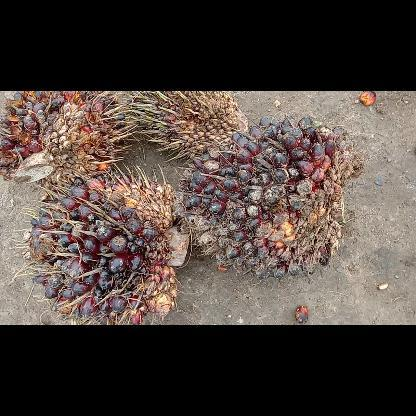Kurang masak: (181, 114, 365, 278), (31, 174, 188, 324)
TBS abnormal: (137, 91, 247, 163)
TBS masak: (0, 91, 130, 183)
